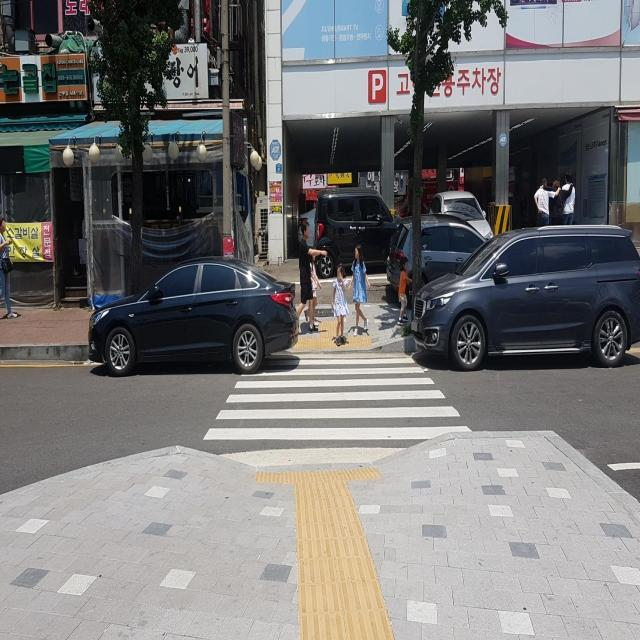횡단보도: (201, 355, 474, 446)
